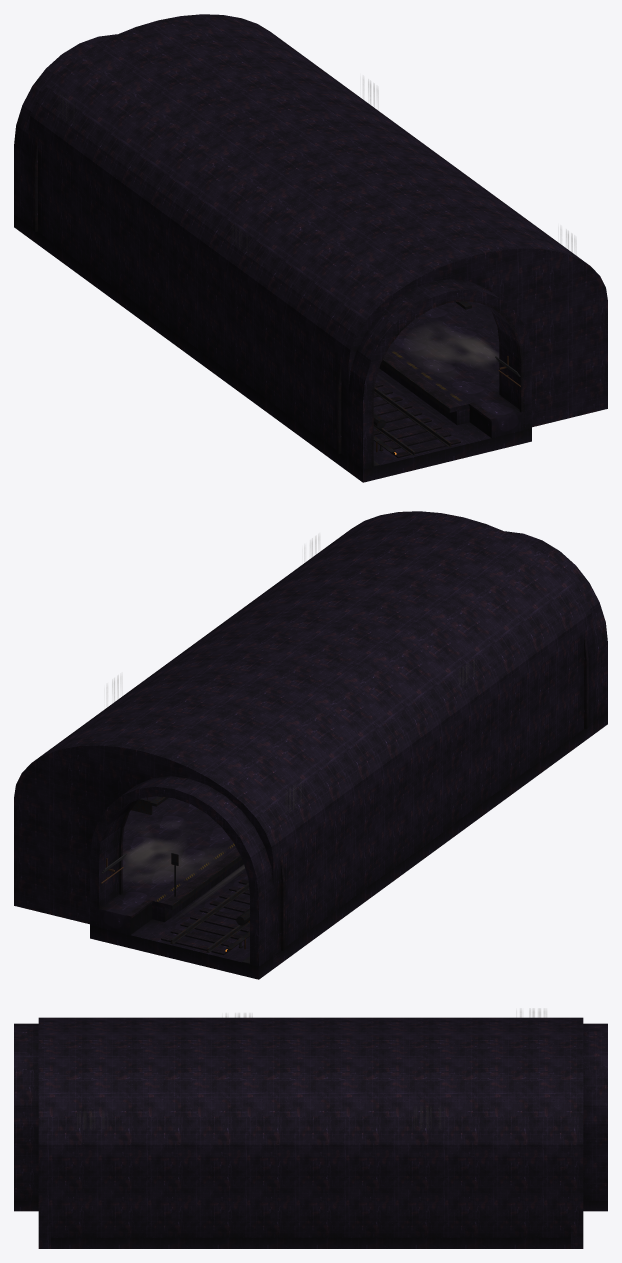
Rendered from tunnel_station.glb.
The picture shows the model from 3 angles, top to bottom: view 1: azimuth 30°, elevation 25°; view 2: azimuth 150°, elevation 25°; view 3: azimuth 270°, elevation 25°; orthographic projection. The views are drawn at different scales.
Parts seen in each view (by area): view 1: body, decals; view 2: body, decals; view 3: body.
Part boxes in pixels (bbox=[...]): body: bbox=[14, 14, 607, 482]; decals: bbox=[60, 81, 574, 400]; body: bbox=[14, 511, 607, 979]; decals: bbox=[112, 537, 474, 903]; body: bbox=[14, 1017, 607, 1248].
Size of what is drawn, in the model's own units: 10.4 by 7.05 by 24.
Materials: 22 (18 with a texture image).
